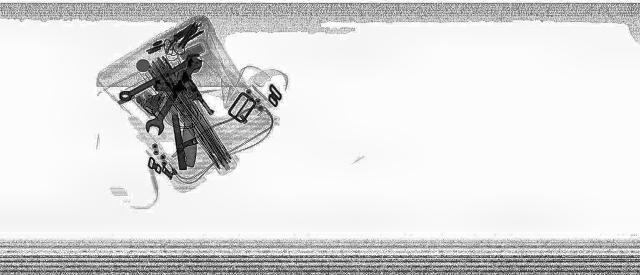Gun: (140, 72, 222, 118)
Knife: (173, 97, 200, 166)
Wrench: (140, 58, 208, 136), (109, 53, 209, 101)
